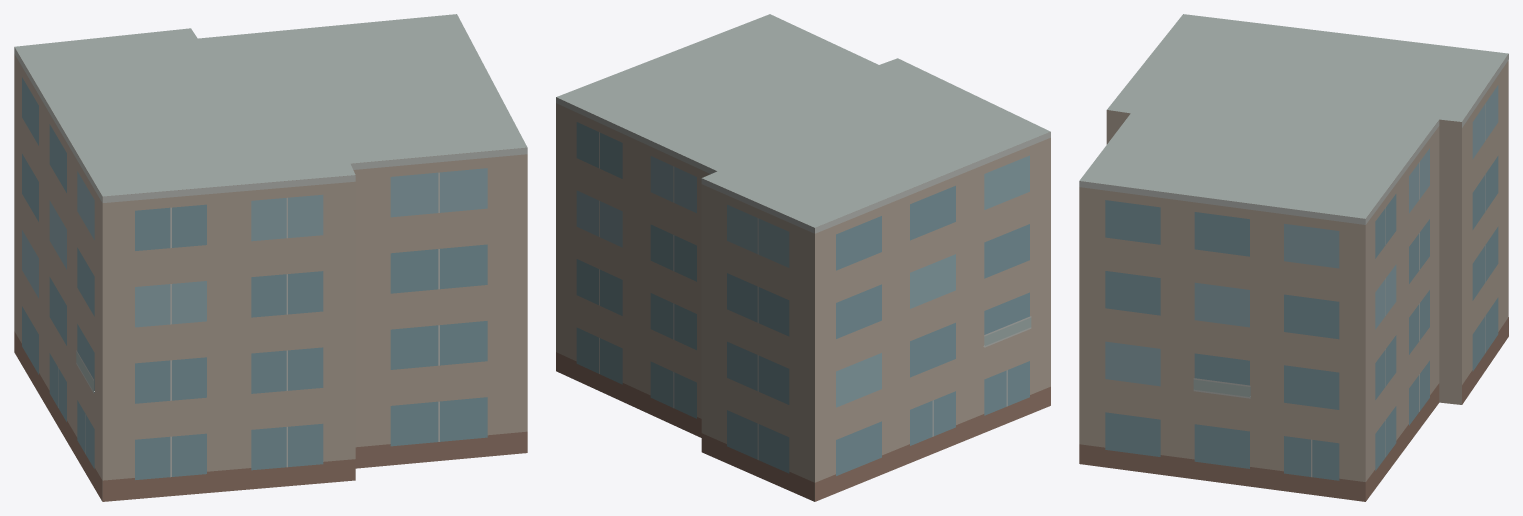
The model's file is survey-upis-32941296.glb.
3 renders of one model, left to right at view 1: azimuth 30°, elevation 25°; view 2: azimuth 150°, elevation 25°; view 3: azimuth 270°, elevation 25°, orthographic. The views are drawn at different scales.
Visible parts, largest first — view 1: survey-upis-32941296.tmp; view 2: survey-upis-32941296.tmp; view 3: survey-upis-32941296.tmp.
Part boxes in pixels (left/top/right/bottom): survey-upis-32941296.tmp: left=14, top=14, right=527, bottom=501; survey-upis-32941296.tmp: left=556, top=14, right=1050, bottom=501; survey-upis-32941296.tmp: left=1079, top=14, right=1508, bottom=501.
Size of the model in its own units: 17.39 by 11.2 by 15.41.
